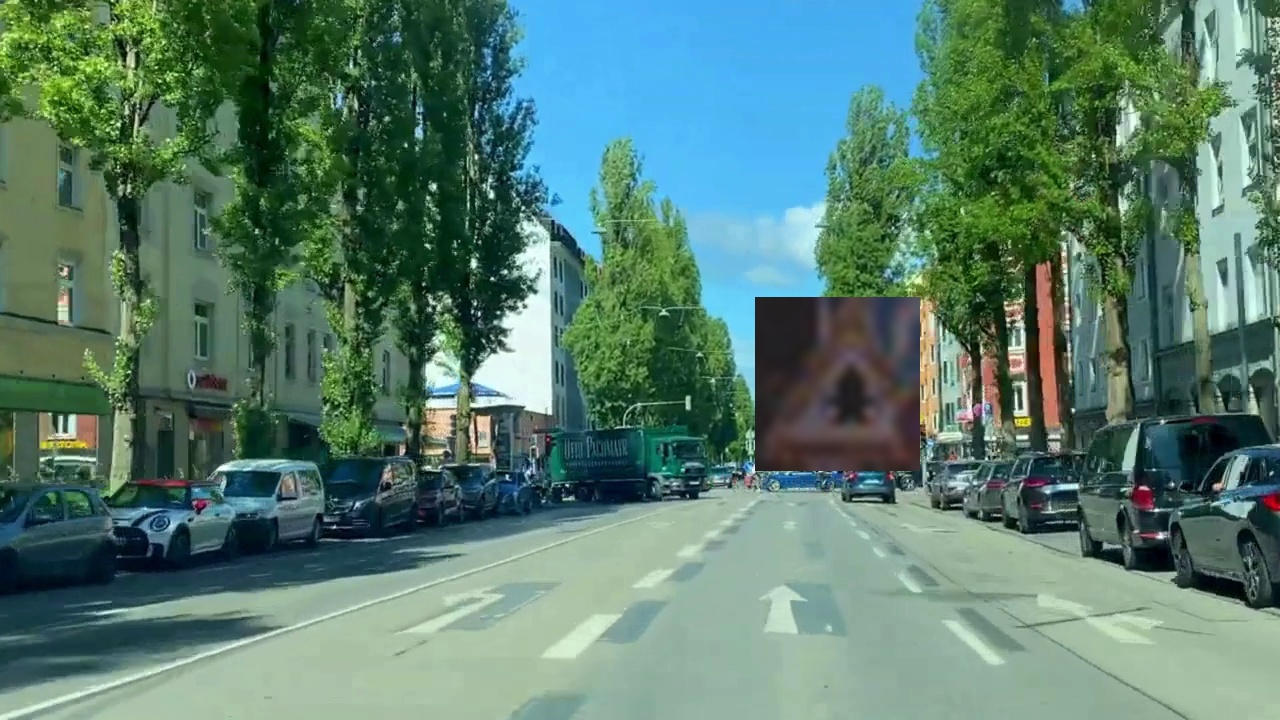Right-of-way: (755, 297, 920, 471)
